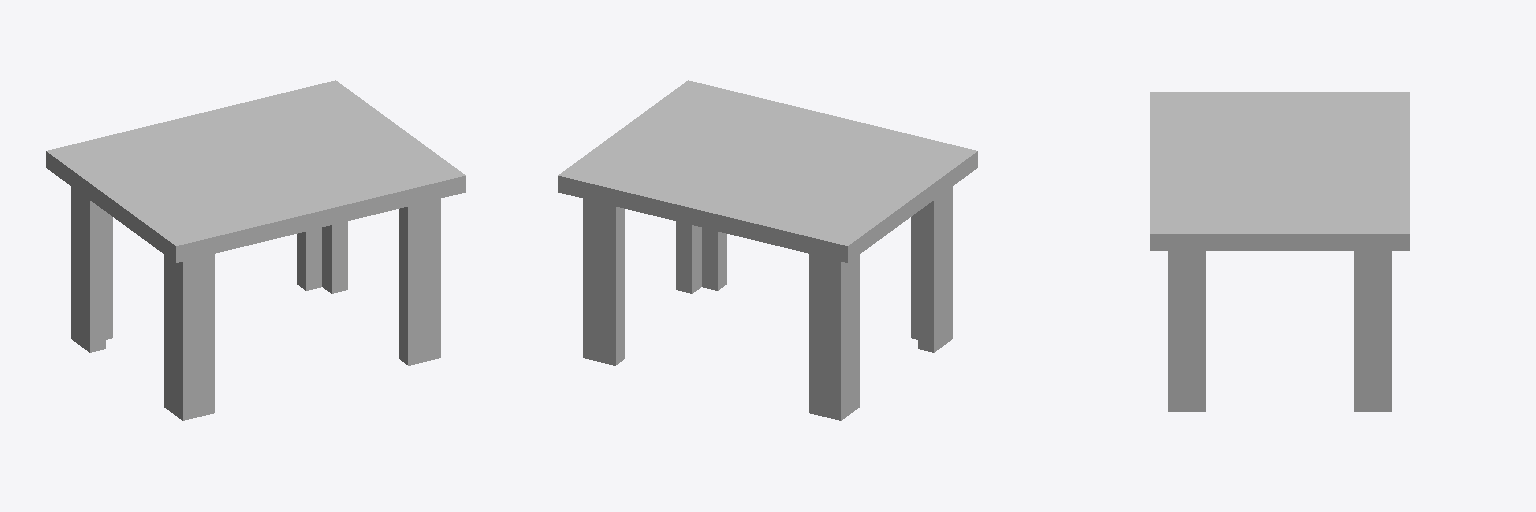
Rendered from Table.obj.
3 views of the same model, side by side, from view 1: azimuth 30°, elevation 25°; view 2: azimuth 150°, elevation 25°; view 3: azimuth 270°, elevation 25° (orthographic).
Parts seen in each view (by area): view 1: object 1; view 2: object 1; view 3: object 1.
Part boxes in pixels (bbox=[...]): object 1: bbox=[46, 80, 465, 420]; object 1: bbox=[558, 80, 977, 420]; object 1: bbox=[1150, 92, 1409, 411].
Size of the model in its own units: 1.8 by 1.1 by 1.4.